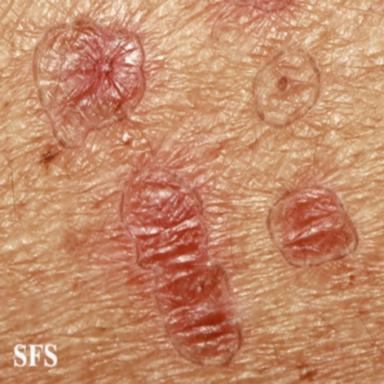Porokeratosis: (121, 162, 241, 365), (34, 17, 145, 147), (268, 186, 358, 266), (253, 50, 319, 127)
